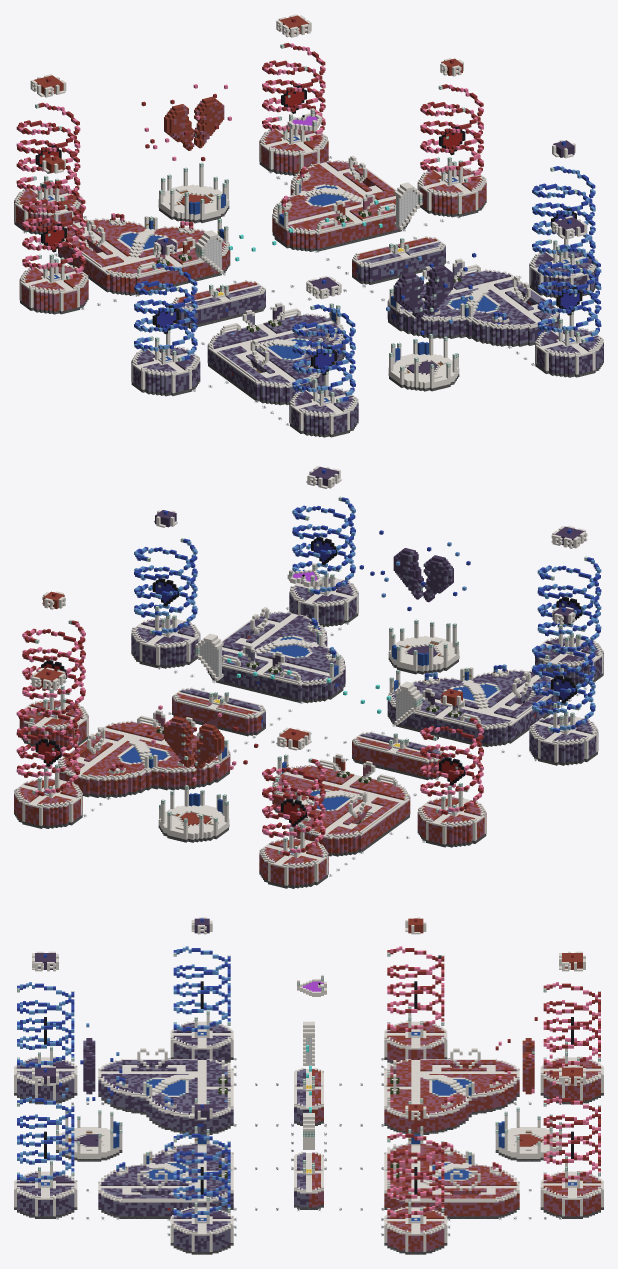
Rendered from minecraft.obj.
3 renders of one model, top to bottom at view 1: azimuth 30°, elevation 25°; view 2: azimuth 150°, elevation 25°; view 3: azimuth 270°, elevation 25°, orthographic. The views are drawn at different scales.
Bounding box in the file's own units: 167 × 61.5 × 196.
